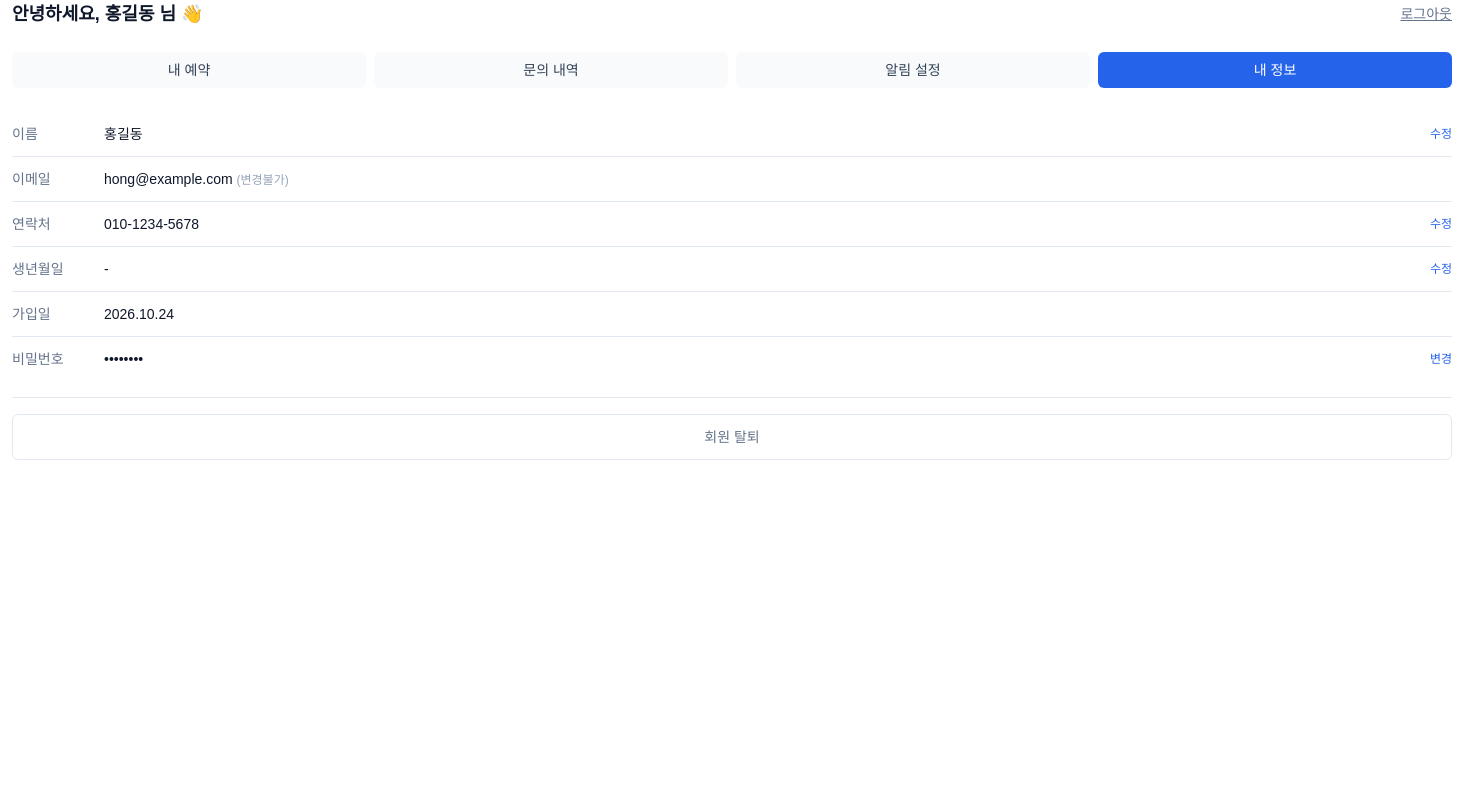
Test: 내 정보 › 비밀번호 변경 → 새 토큰 적용
This screenshot has width=1464, height=810.
Click the button "변경" at coordinates (1441, 359), box [1430,351,1452,367]
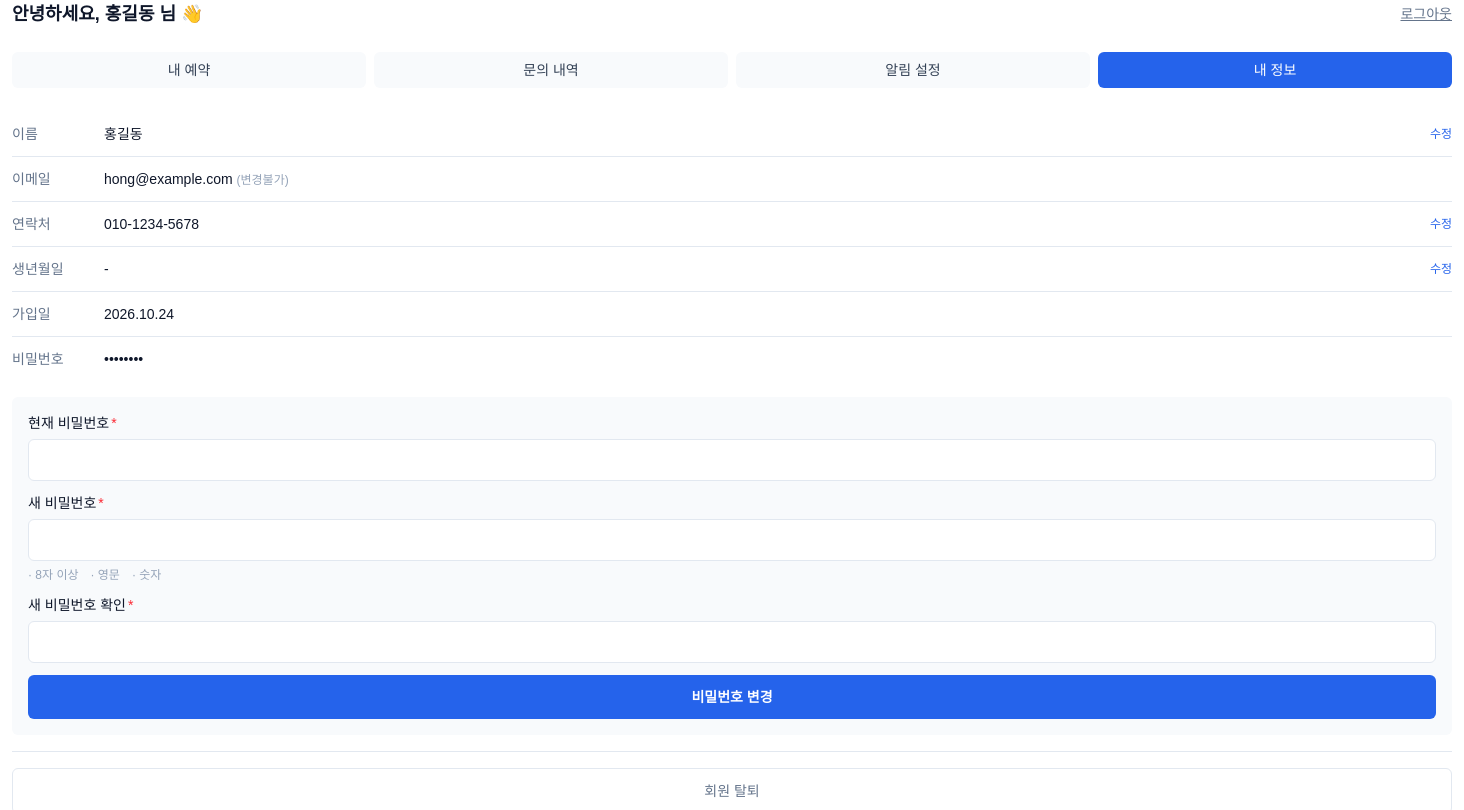
Type "abcd1234" into the password field labelled "현재 비밀번호*" at coordinates (732, 460), box [28,439,1436,481]
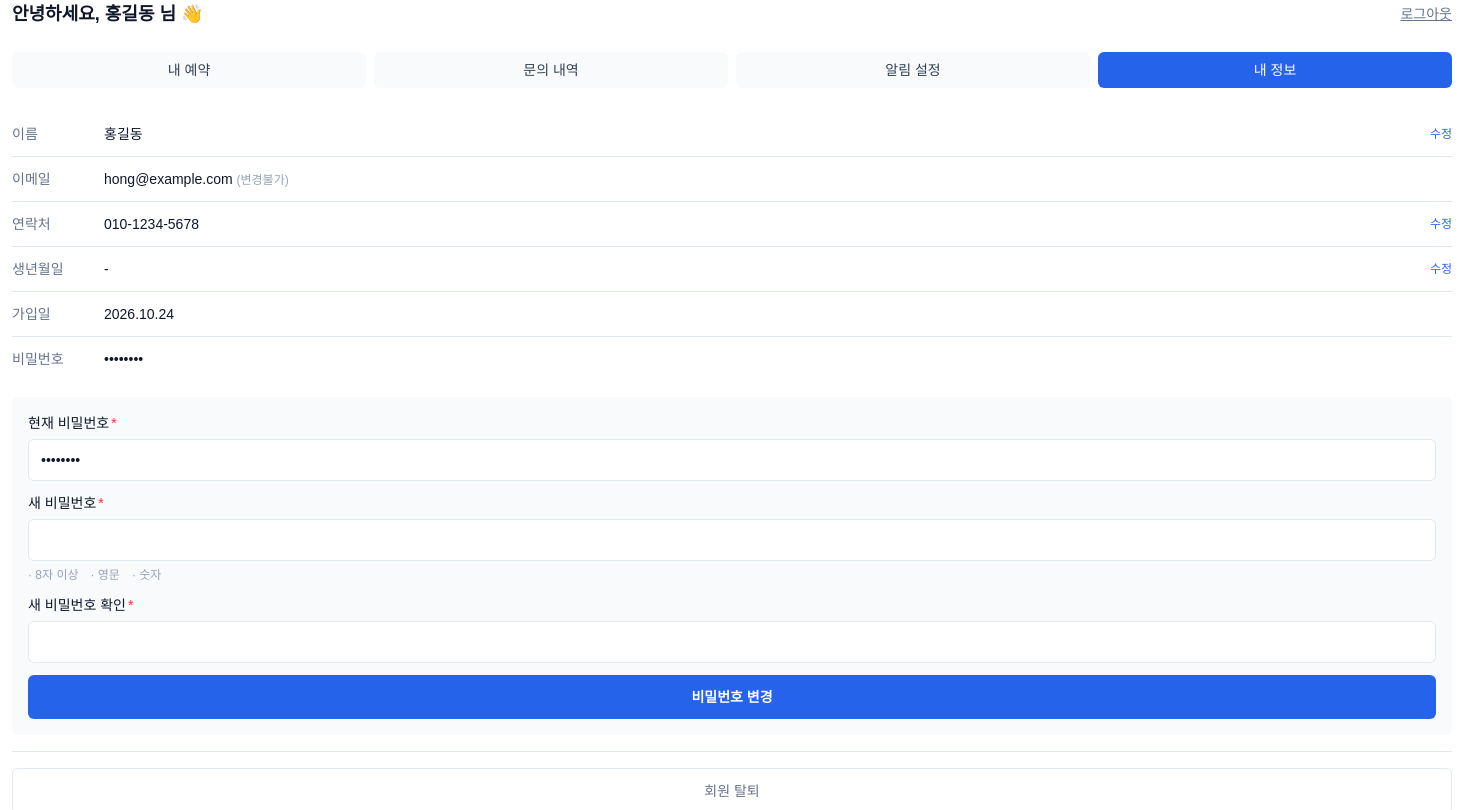
Type "newpass99" into the password field labelled "새 비밀번호*" at coordinates (732, 540), box [28,519,1436,561]
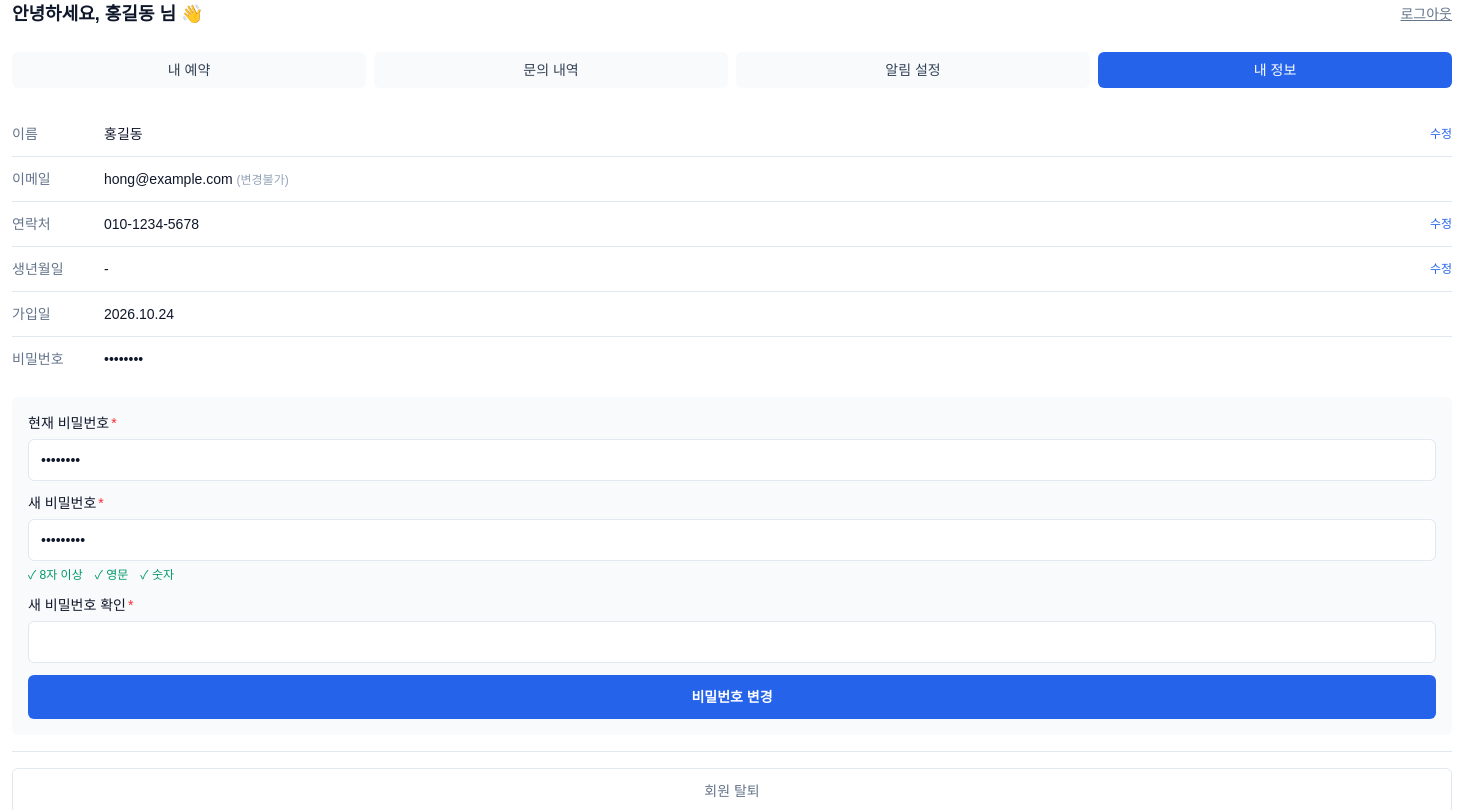
Type "newpass99" into the password field labelled "새 비밀번호 확인*" at coordinates (732, 642), box [28,621,1436,663]
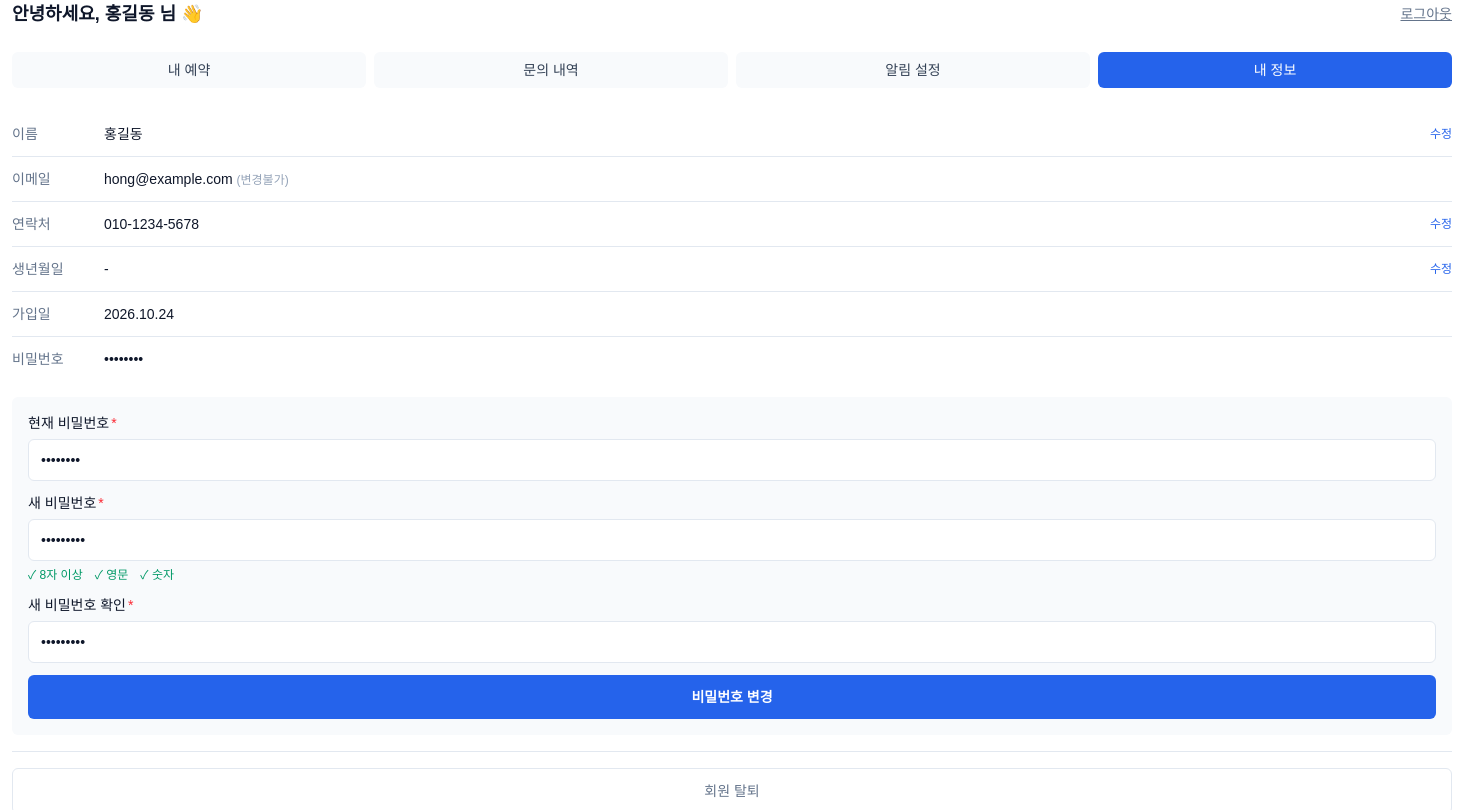
Click the button "비밀번호 변경" at coordinates (732, 697), box [28,675,1436,719]
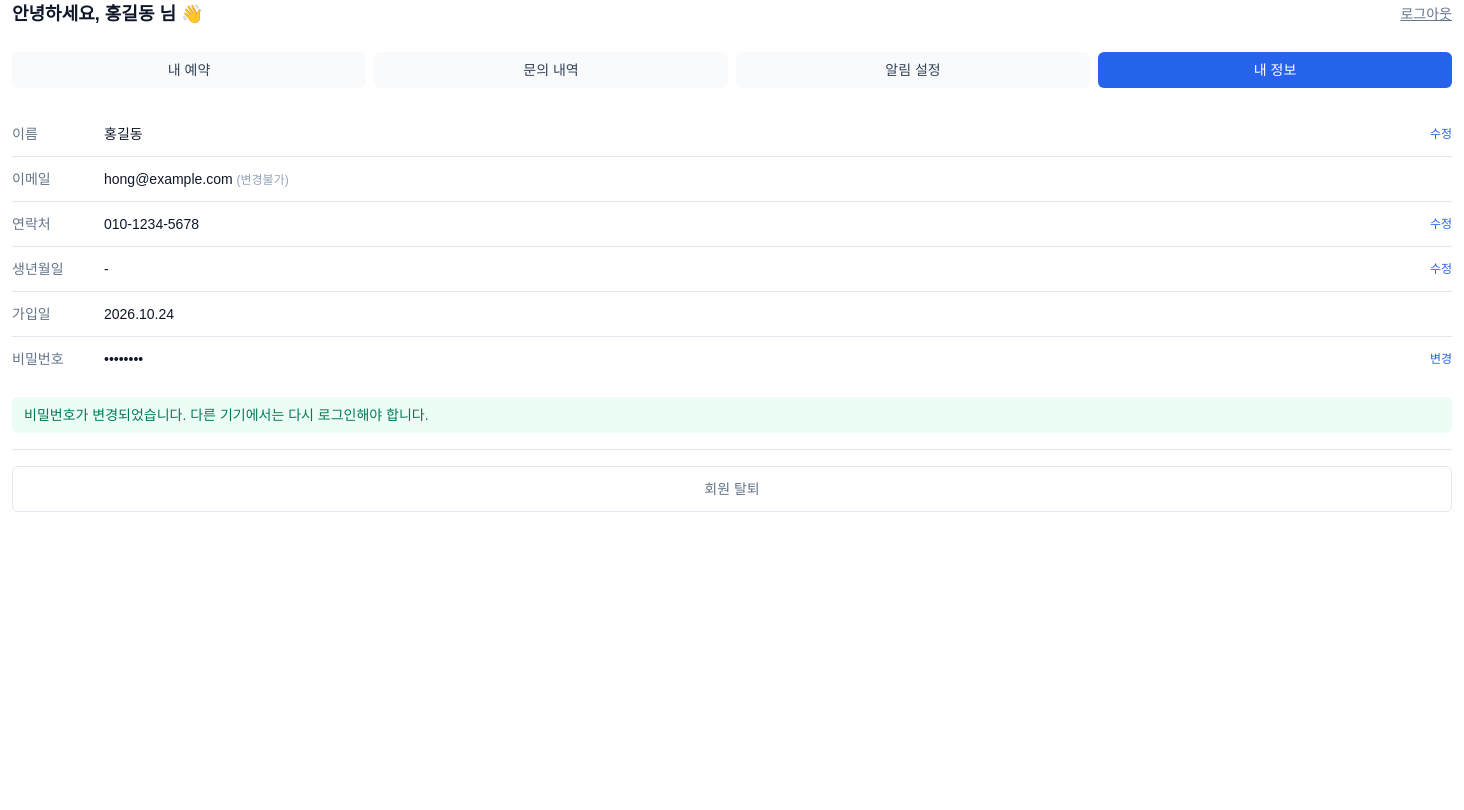
Check: the text "비밀번호가 변경되었습니다. 다른 기기에서는 다시 로그인해야 합니다." is shown, box [12,397,1452,433]
